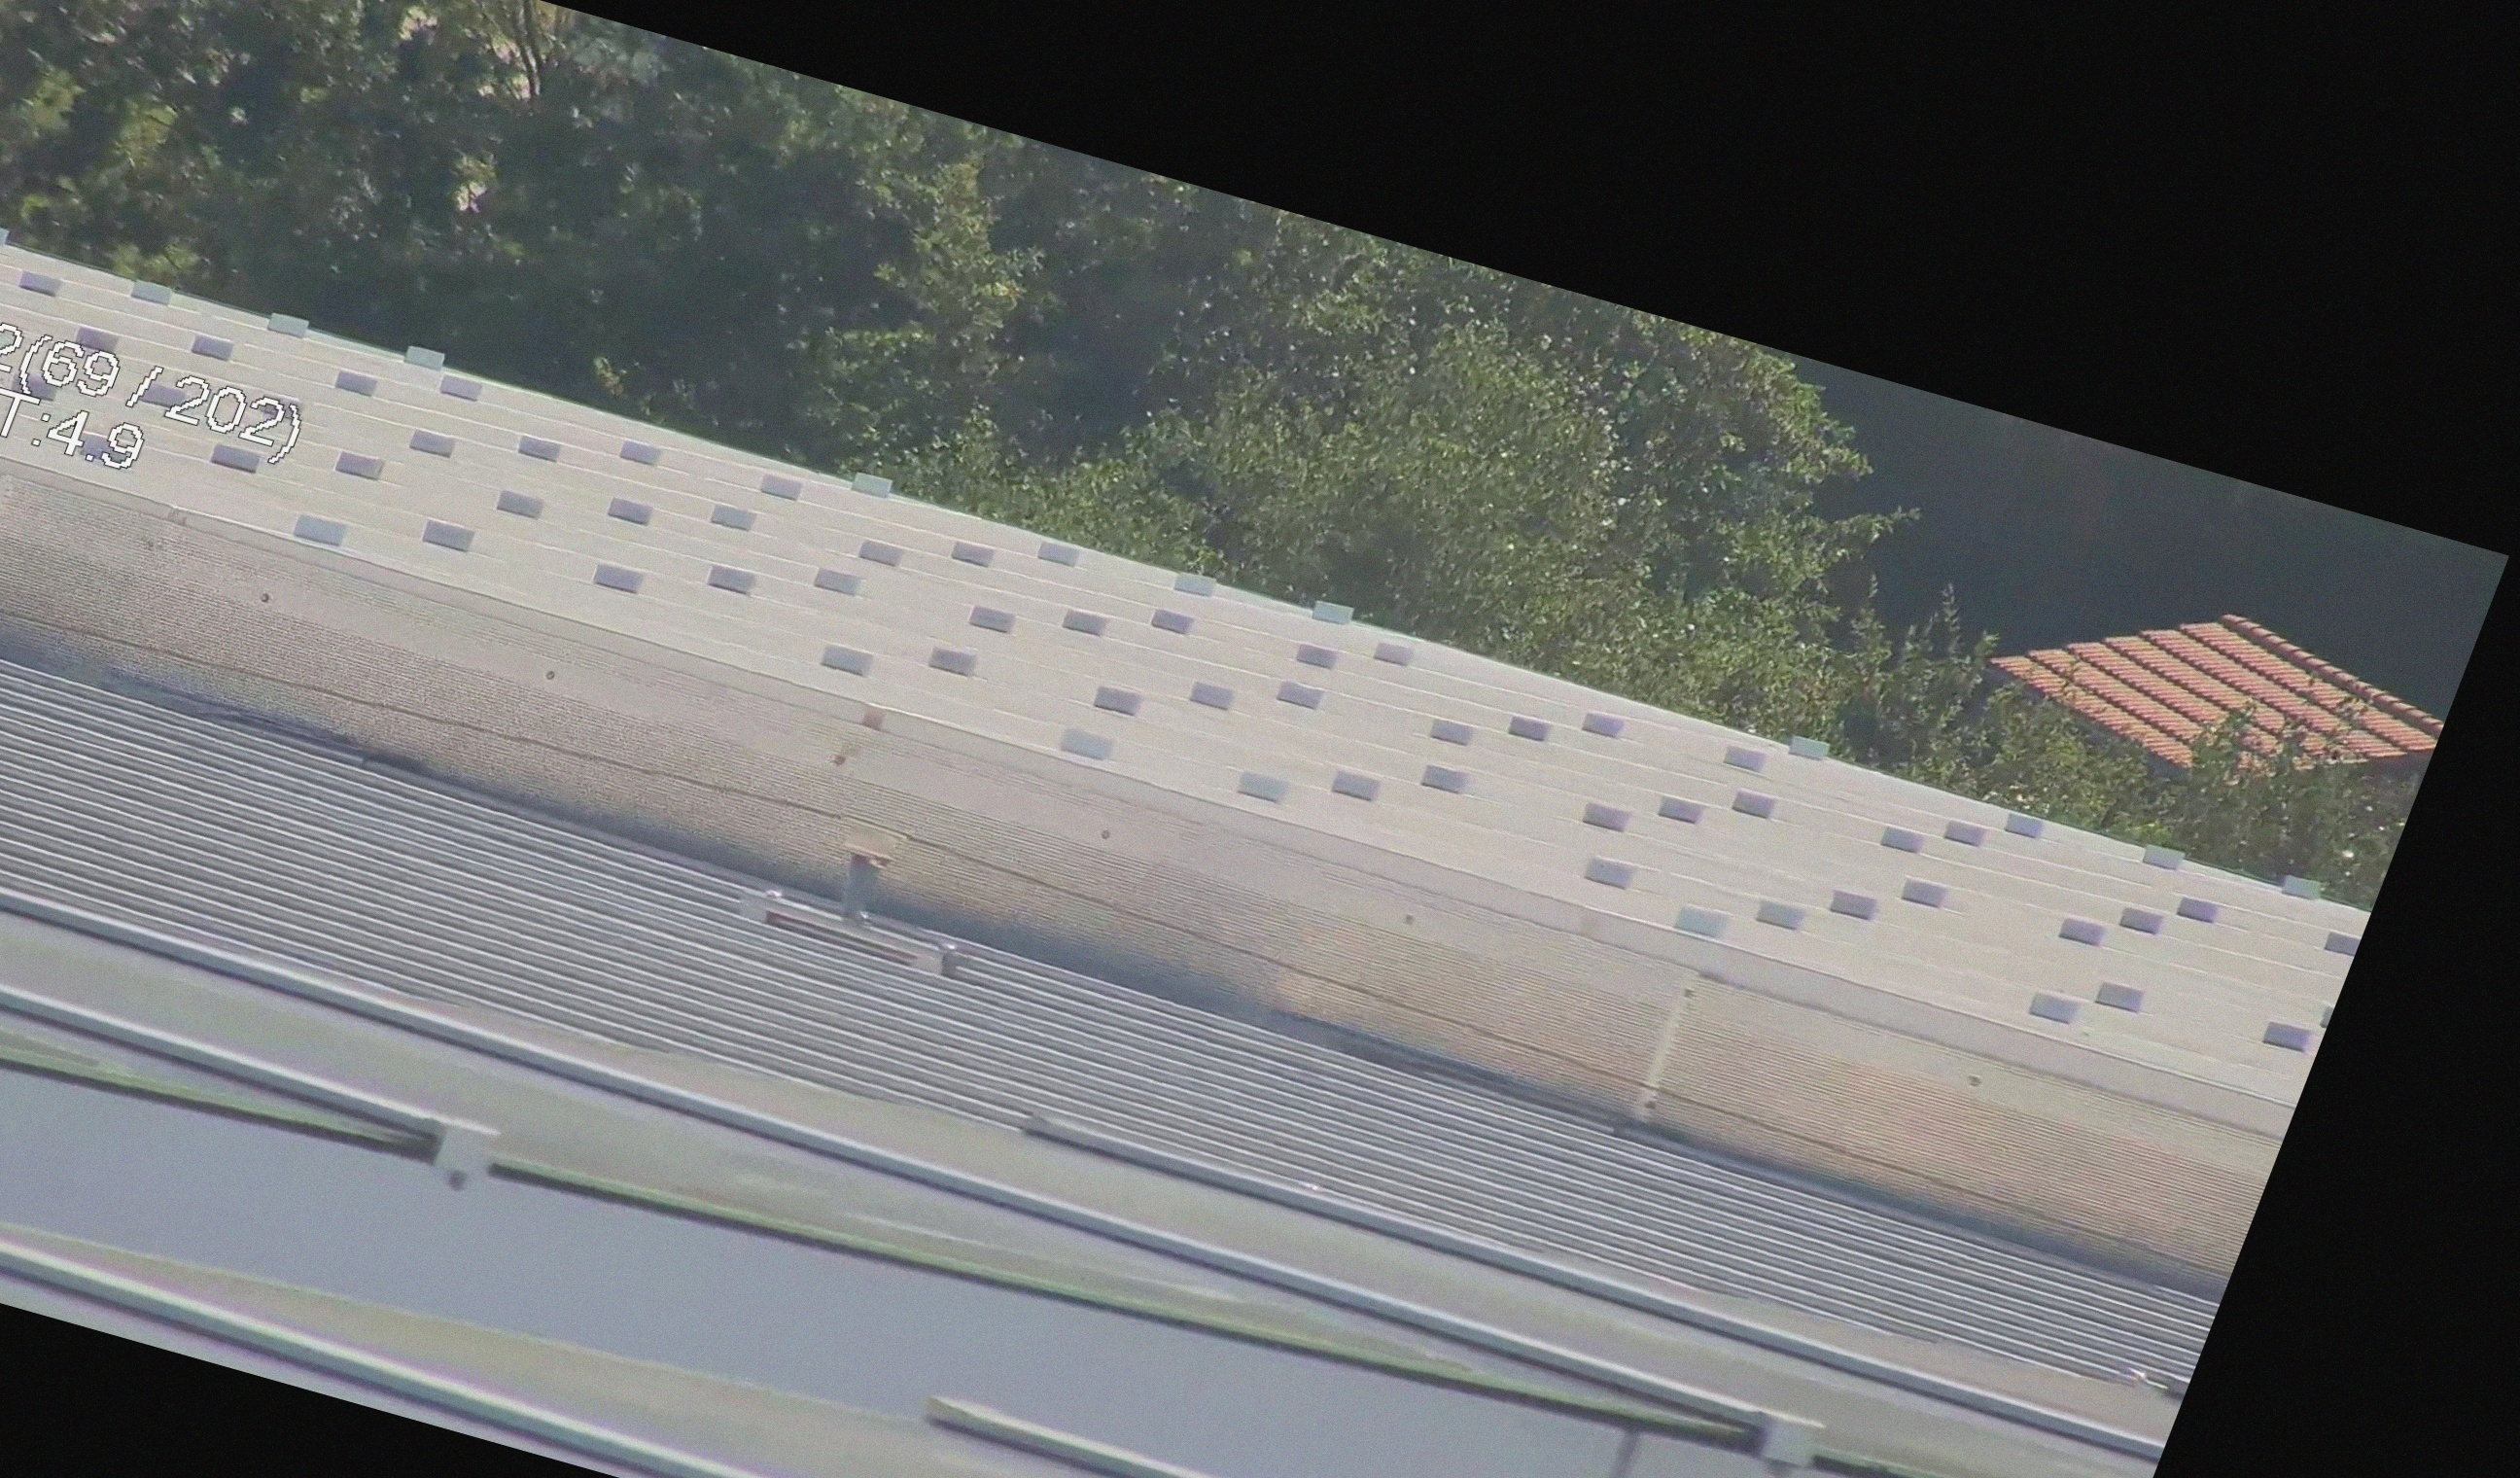Other: (784, 829, 960, 962)
